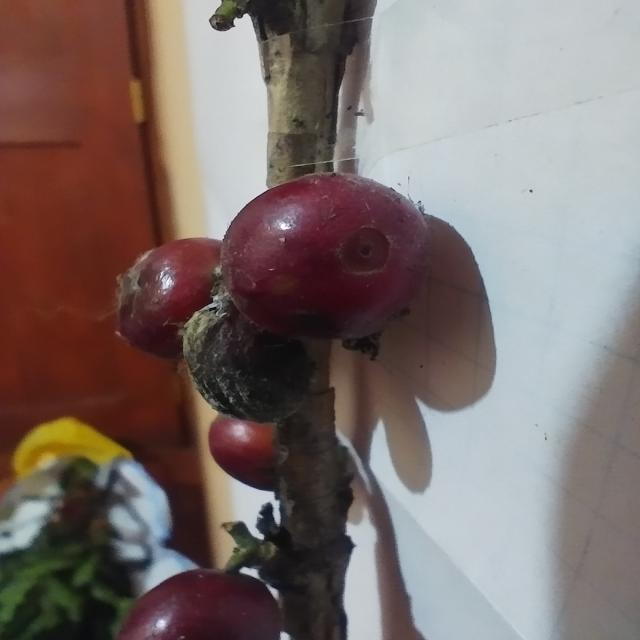Danado: (181, 296, 316, 424), (116, 238, 222, 363)
Sano: (222, 175, 431, 344), (117, 570, 283, 640)
